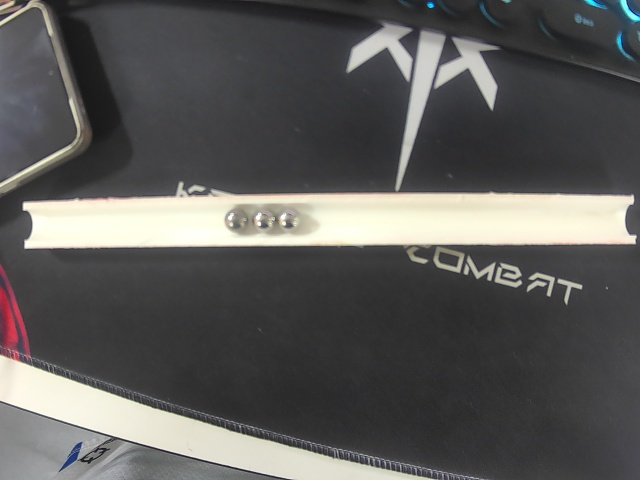steelball: (224, 207, 249, 232), (277, 209, 302, 232), (253, 208, 276, 232)
